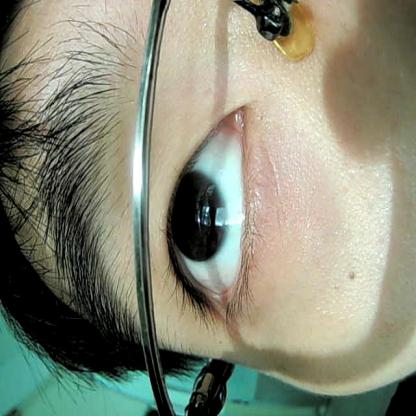Up: (158, 99, 261, 338)
